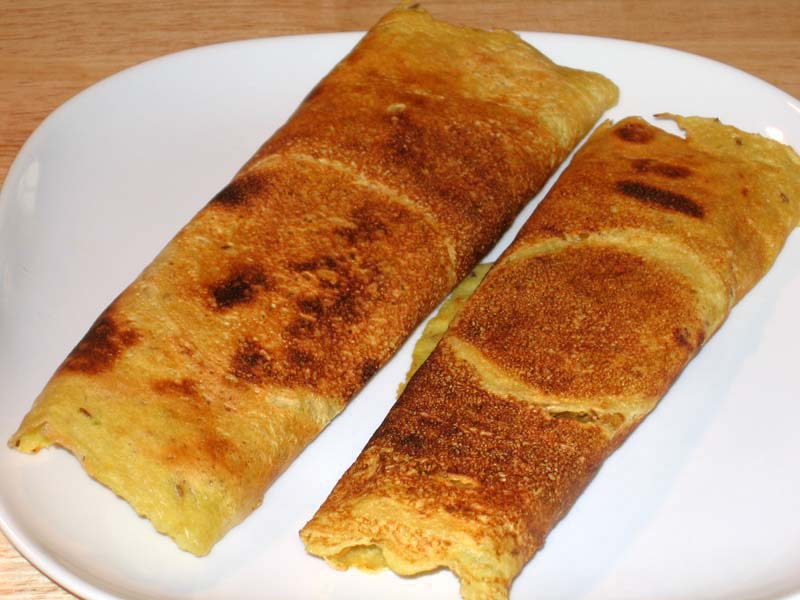dosa: (13, 3, 796, 600)
